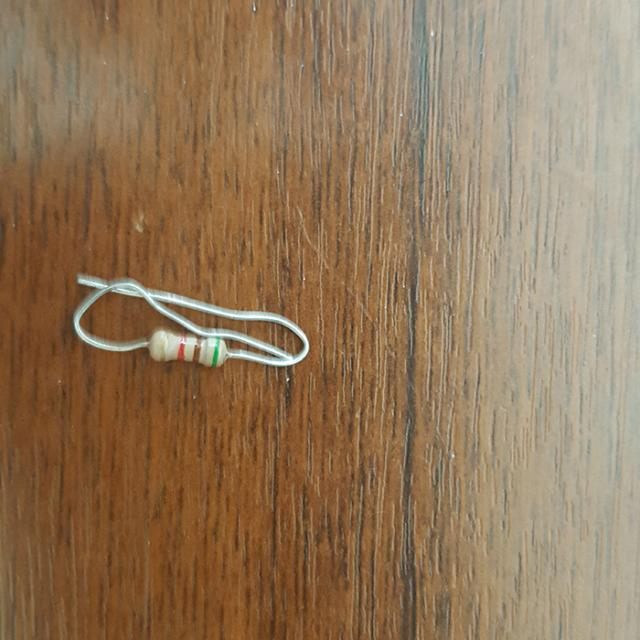brown: (194, 337, 201, 361)
gold: (161, 332, 167, 358)
green: (213, 337, 221, 366)
red: (180, 335, 187, 359)
resistor: (144, 325, 235, 378)
